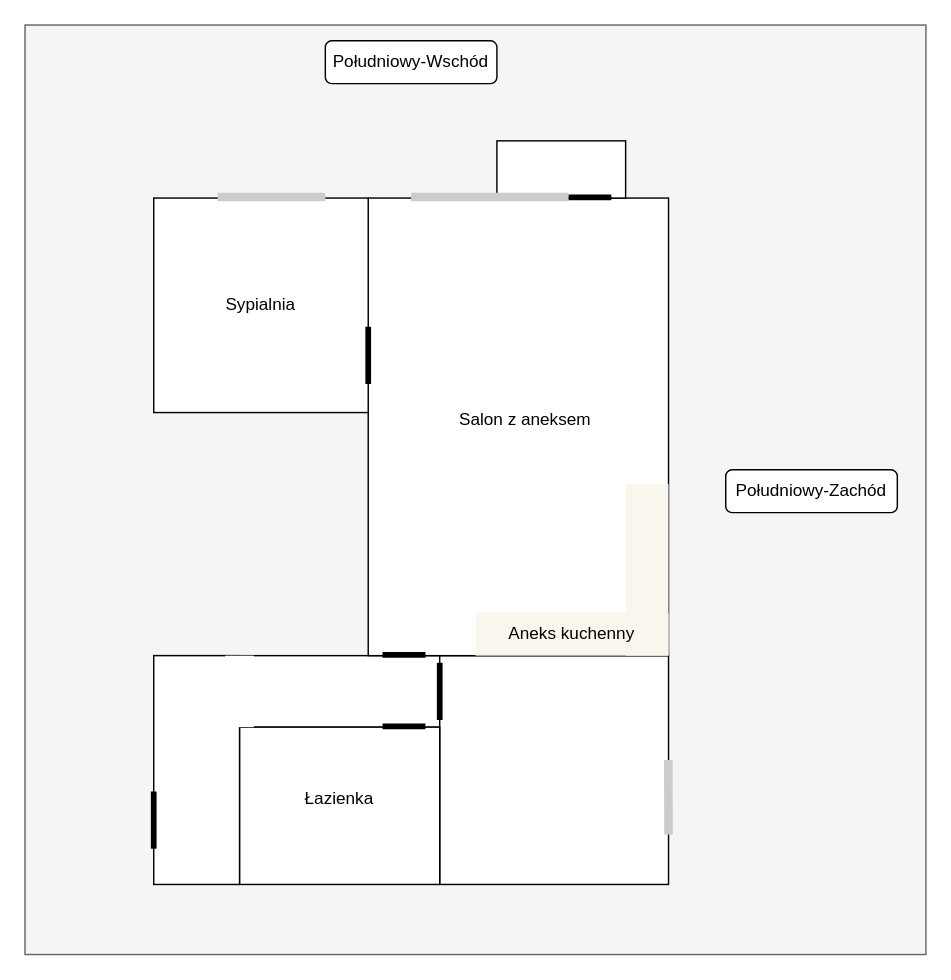
Some shapes in this 951 by 980 pixel diagram are drawn without their labels. Here are the shapes that lost their labels. From the top down, the box of each, then its label:
(495, 139, 626, 198): Balkon
(152, 654, 440, 727): Komunikacja
(438, 654, 669, 884): Gabinet / Sypialnia
